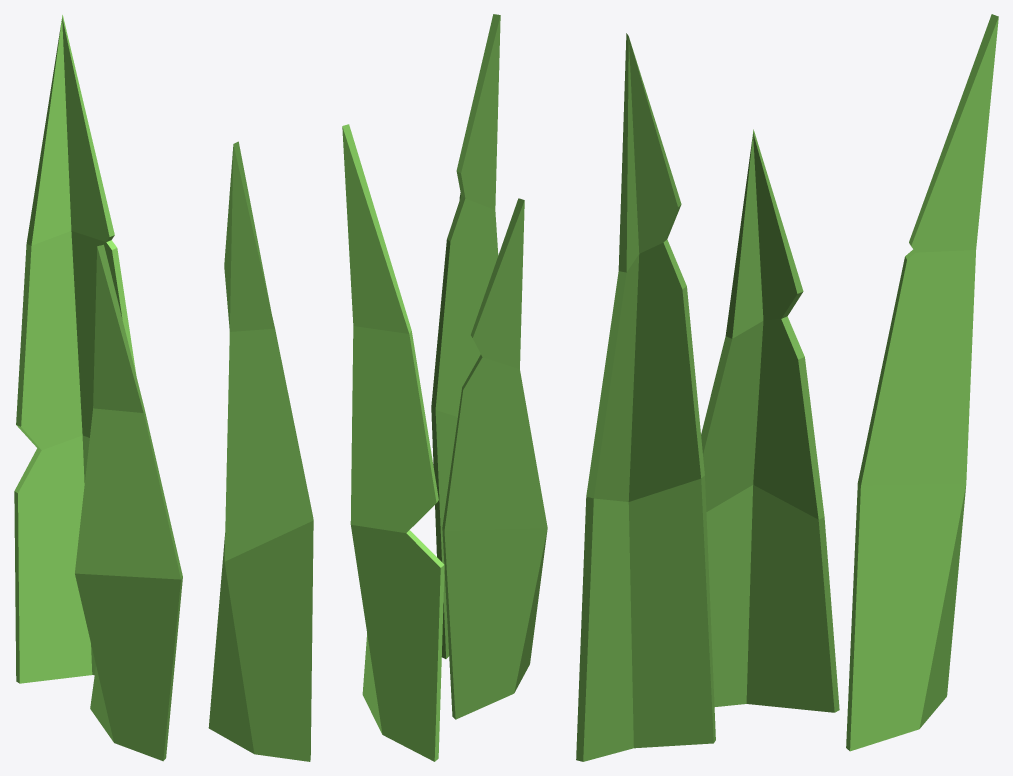
The model's file is Grass buket1.fbx.
3 renders of one model, left to right at view 1: azimuth 30°, elevation 25°; view 2: azimuth 150°, elevation 25°; view 3: azimuth 270°, elevation 25°, orthographic. The views are drawn at different scales.
Parts seen in each view (by area): view 1: Plane.003, Plane.005, Plane.004; view 2: Plane.003, Plane.004, Plane.005; view 3: Plane.005, Plane.003, Plane.004.
Boxes of the visible parts, left/top/right/bottom form: Plane.003: left=14, top=15, right=136, bottom=683; Plane.005: left=208, top=141, right=313, bottom=761; Plane.004: left=75, top=244, right=182, bottom=761; Plane.003: left=342, top=124, right=444, bottom=761; Plane.004: left=442, top=198, right=547, bottom=719; Plane.005: left=431, top=14, right=500, bottom=658; Plane.005: left=576, top=33, right=715, bottom=761; Plane.003: left=846, top=14, right=998, bottom=751; Plane.004: left=701, top=129, right=839, bottom=712.
Size of the model in its own units: 76.89 by 277 by 148.
